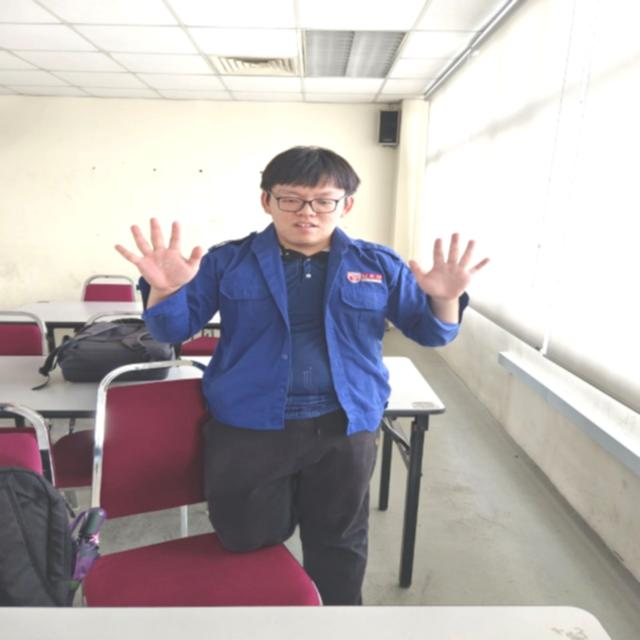person_with_labcoat: (115, 147, 488, 605)
